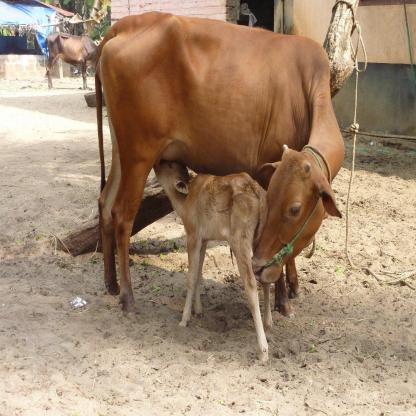cow: (97, 14, 346, 316), (155, 156, 274, 361), (46, 33, 99, 91)
